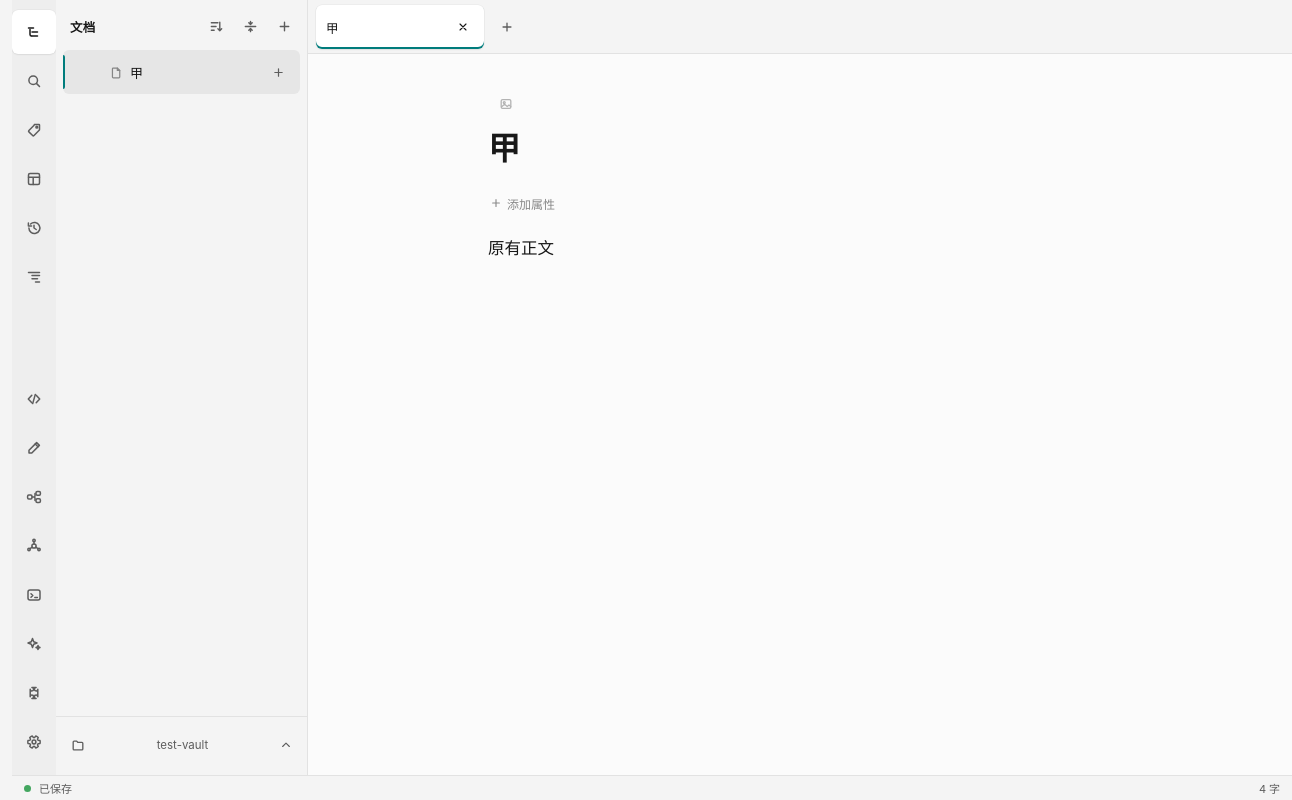
Test case: 侧栏里的模板面板 › 双击模板就地改名，并真的写回文件
Click the button named "模板": (34, 179) [12, 157, 56, 201]
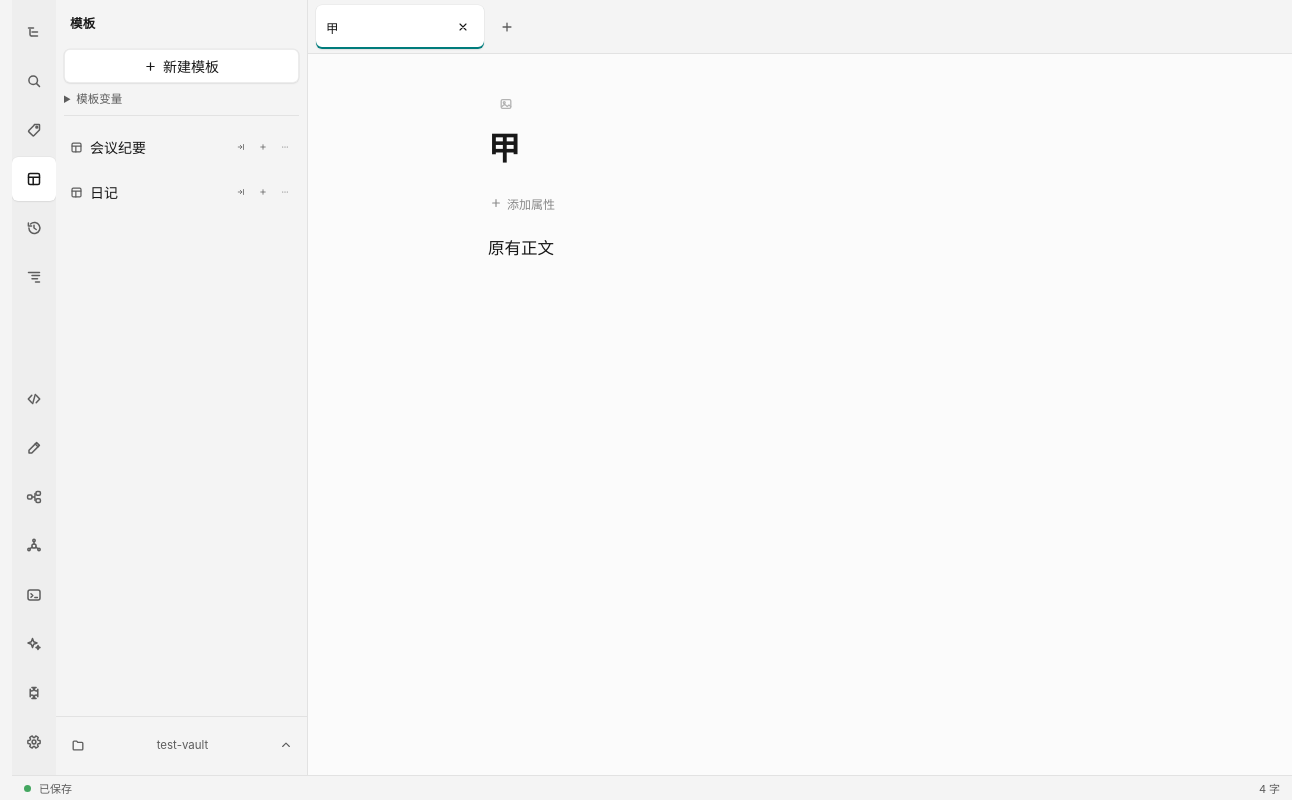
Double-click the button with class "tpl-name" showing "日记": (148, 192) [64, 177, 231, 207]
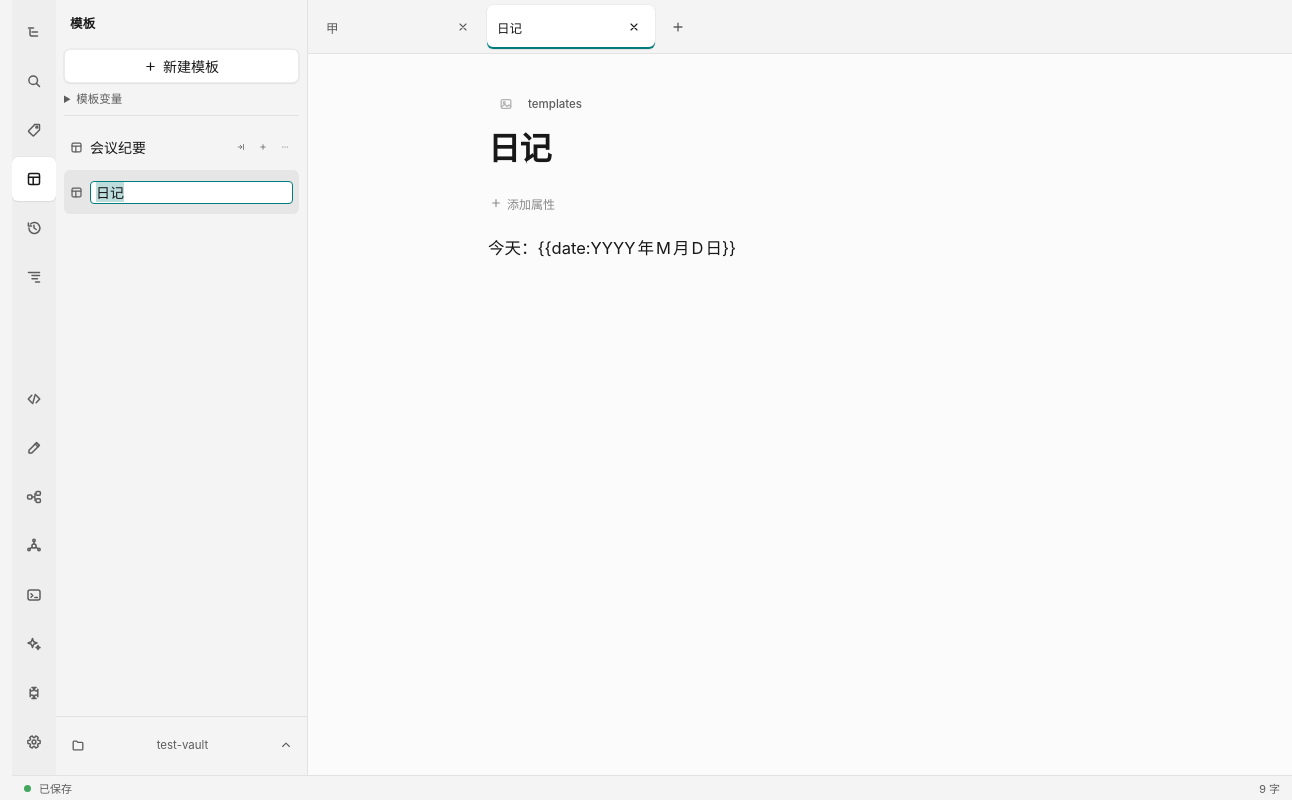
Expected: the field with class "tpl-rename" holds "日记"
Replace the text in the field with class "tpl-rename" with "晨间日记": (192, 192) [90, 180, 293, 204]
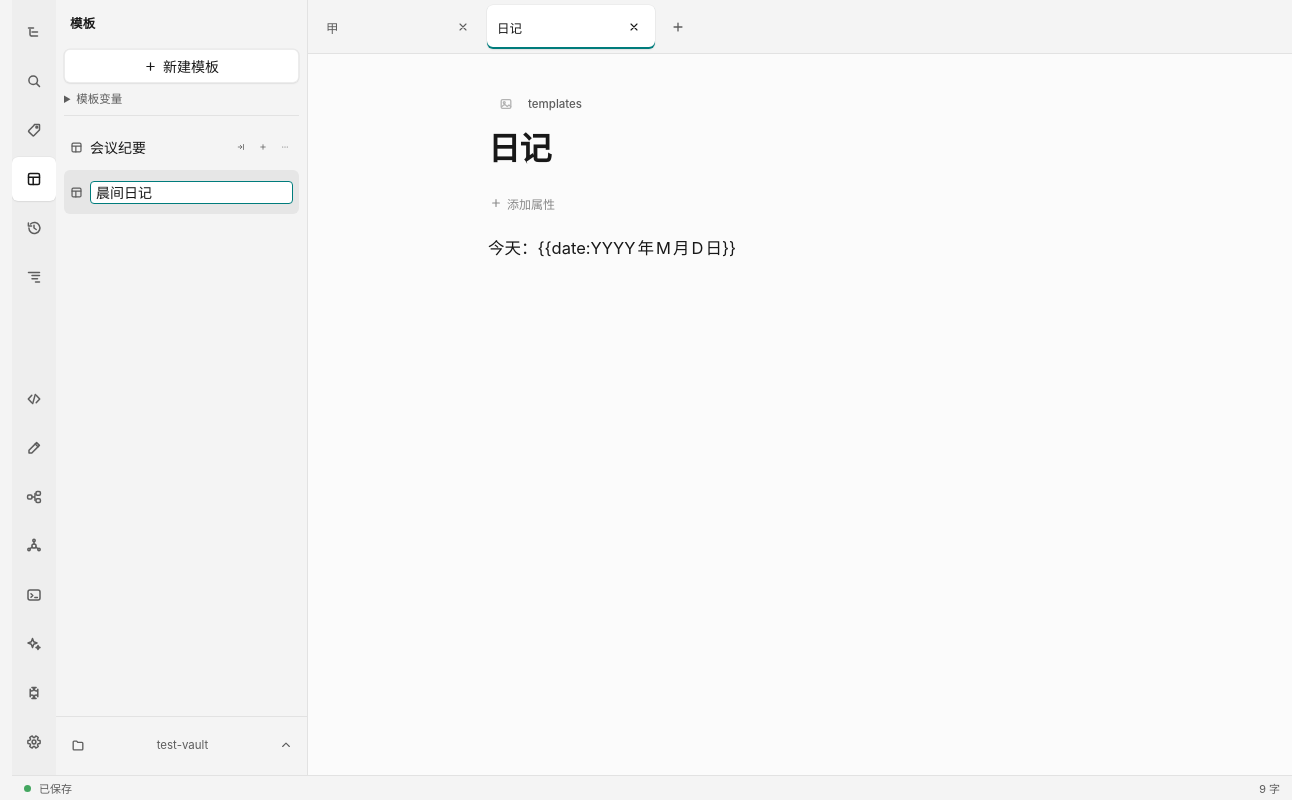
Press Enter
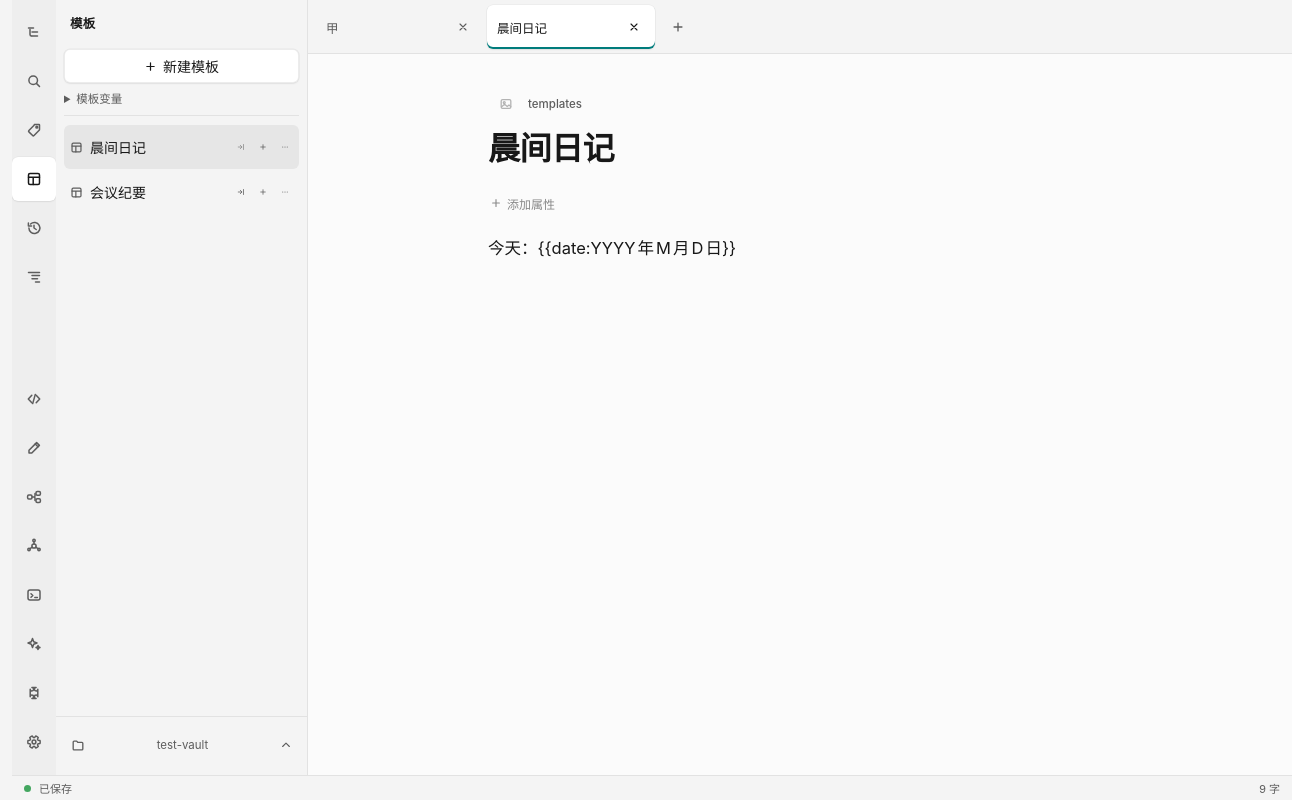
Expected: the list with class "tpl-list" shows "晨间日记", [64, 132, 231, 162]
